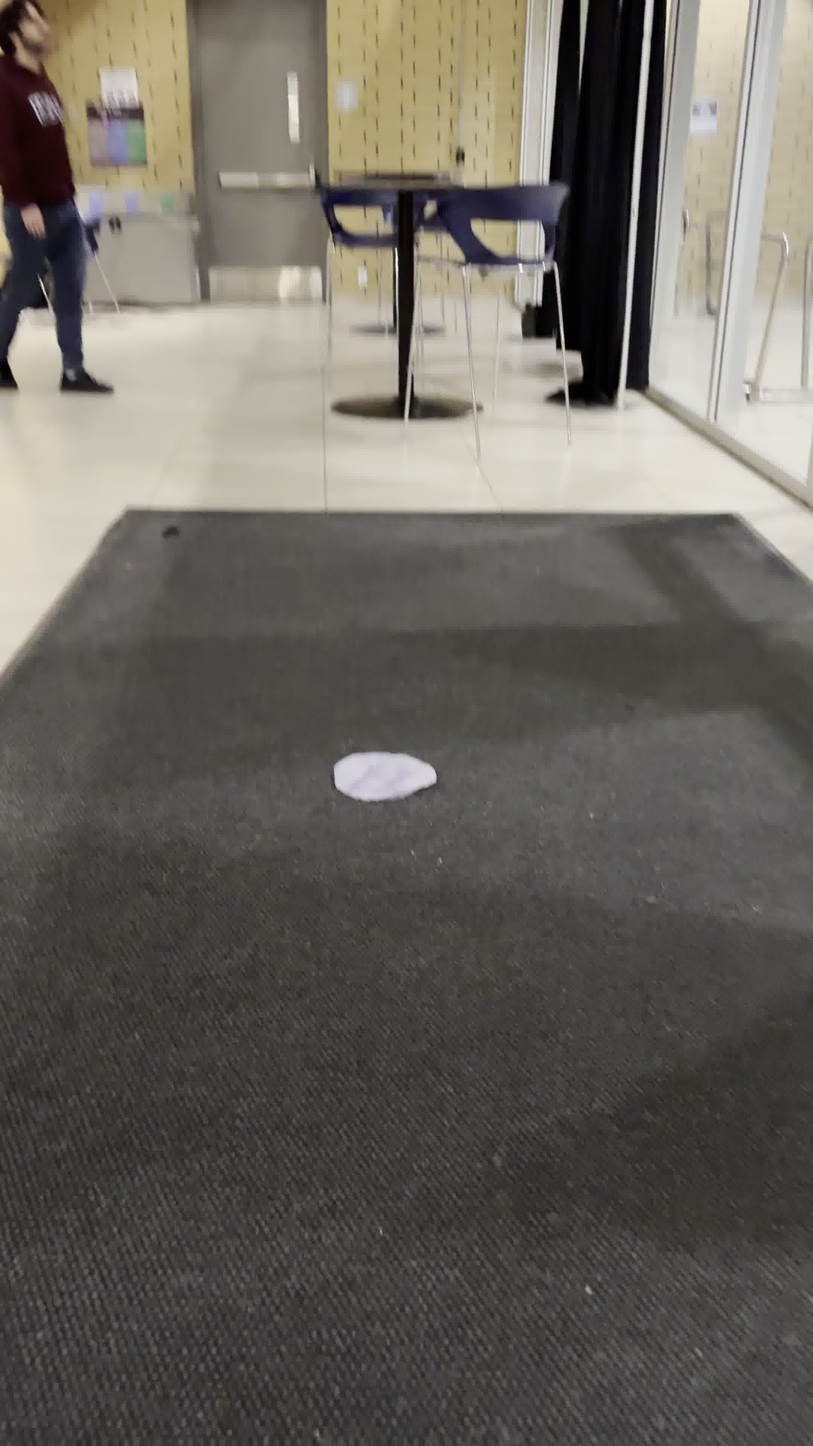Target: (332, 747, 440, 807)
